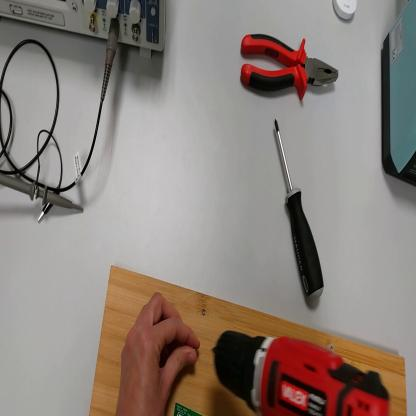electric screwdriver: (214, 328, 391, 413)
hand: (117, 290, 205, 414)
high voltage board: (175, 399, 198, 416)
oscilloscope: (2, 1, 168, 60)
oscilloscope probe tip: (2, 174, 87, 214)
pliers: (239, 31, 339, 103)
screwdriver-: (275, 119, 325, 299)
welder station: (381, 3, 416, 186)
working area: (89, 267, 407, 416)
